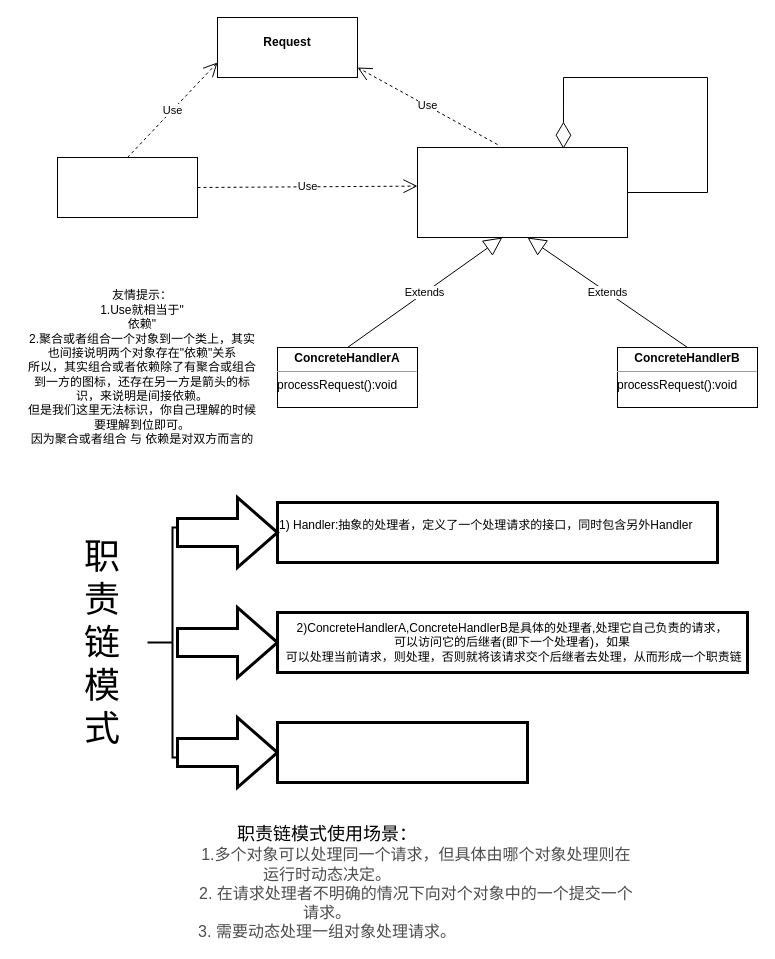
Image size: 775x959. Some labels were removed from this diagram. The box of each missing label's shape, as (x1, y1, x2, y2) in pixels:
3) Request ,含义很多属性，表示一个请求: (276, 720, 528, 784)
Client: (56, 156, 198, 218)
《abstract》 Handler successor: Handler + processRequest(): void 【抽象方法】: (416, 146, 628, 238)
